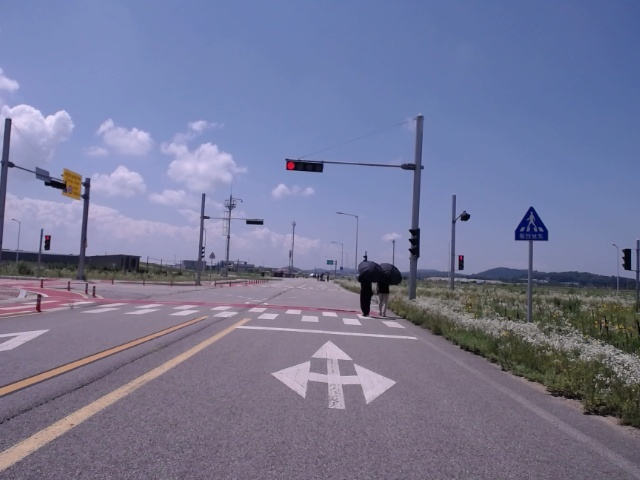red_4: (286, 161, 323, 173)
